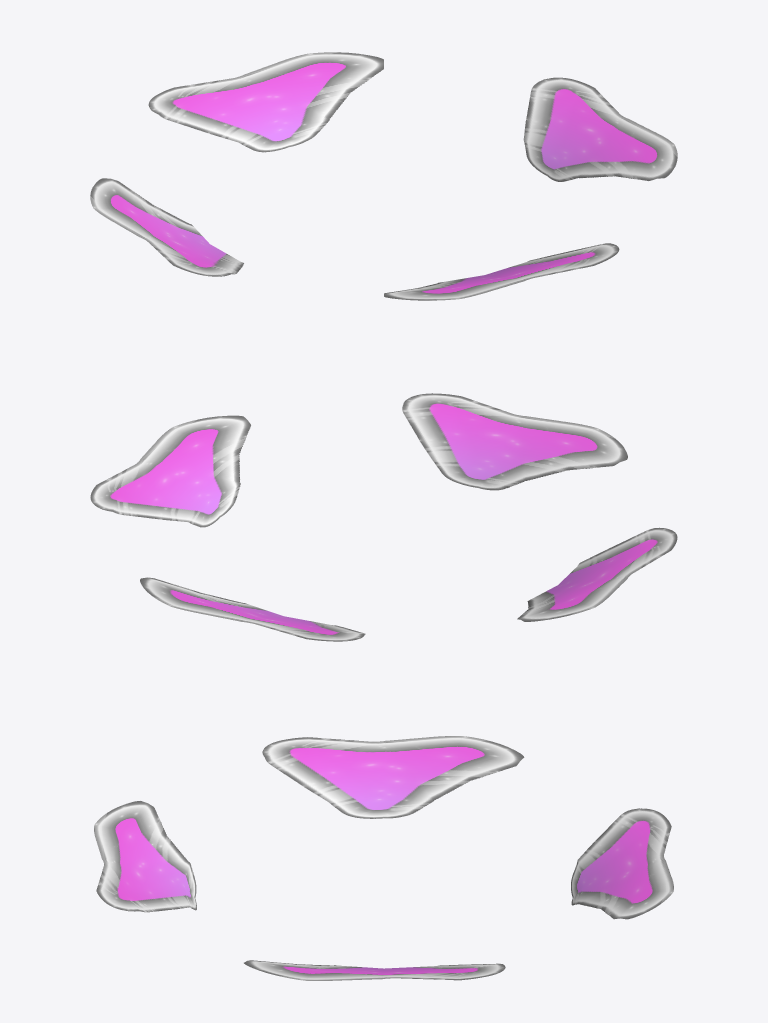
Rendered from pointeur.fbx.
3 renders of one model, top to bottom at view 1: azimuth 30°, elevation 25°; view 2: azimuth 150°, elevation 25°; view 3: azimuth 270°, elevation 25°, orthographic.
Visible parts, largest first — view 1: Pointeur; view 2: Pointeur; view 3: Pointeur.
Boxes of the visible parts, box(x1,y1,x2,y2) form: Pointeur: box(90, 52, 677, 300); Pointeur: box(90, 393, 677, 641); Pointeur: box(94, 736, 673, 980).
Bounding box in the file's own units: 45.14 × 4.19 × 45.14.
